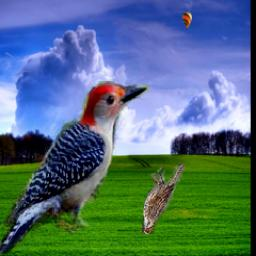Sparrow: (142, 163, 185, 235)
Woodpecker: (0, 81, 149, 254)
